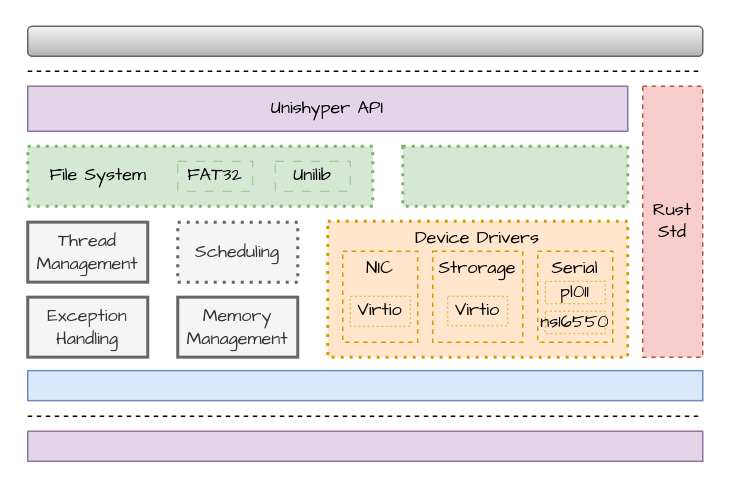
Image size: 731x488. Some labels were removed from this diagram. The centre of each missing label's shape, as x and y in pixels:
"Architecture specific: x86_64, aarch64" belongs at (364,385).
"Network Stack" belongs at (514,175).
"QEMU/KVM, Shyper, Bare-metal Hardware" belongs at (364,445).
"User Application" belongs at (364,40).
